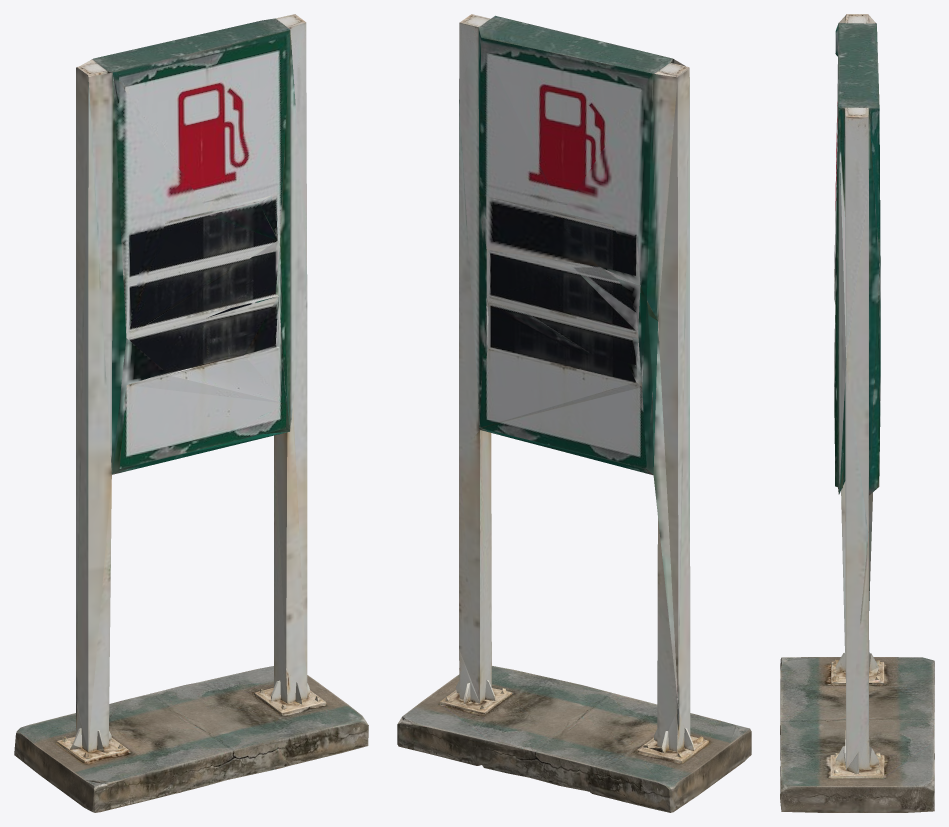
File: pylon.glb
3 views of the same model, side by side, from view 1: azimuth 30°, elevation 25°; view 2: azimuth 150°, elevation 25°; view 3: azimuth 270°, elevation 25° (orthographic). The views are drawn at different scales.
Bounding box in the file's own units: 0.7793 × 1.9 × 0.3903.
1 material, 1 textured.
